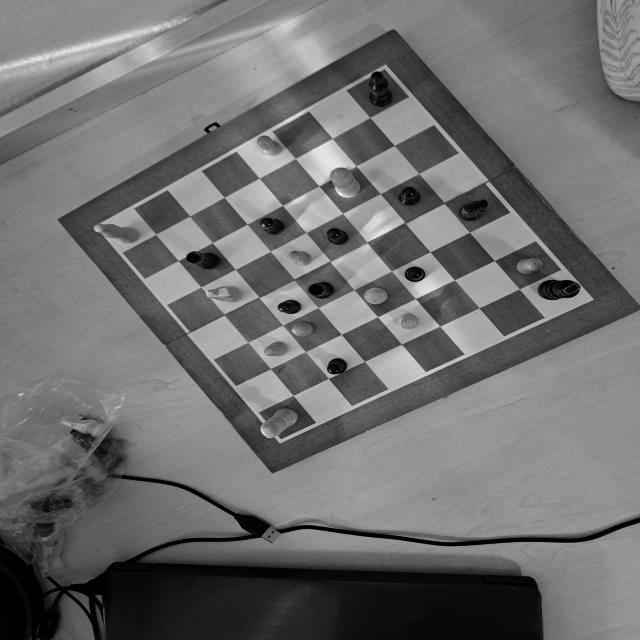chess-table-corners: (374, 63, 396, 77), (90, 221, 110, 234), (580, 294, 596, 304), (274, 435, 288, 444)
